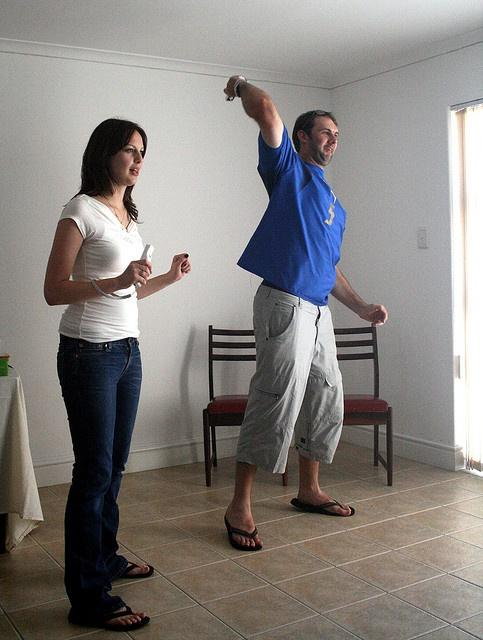Kursi: (332, 325, 392, 486), (201, 323, 259, 488)
